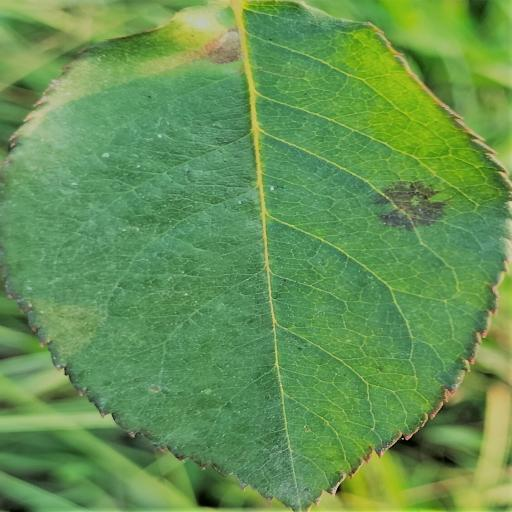black_spot: (2, 0, 510, 512)
